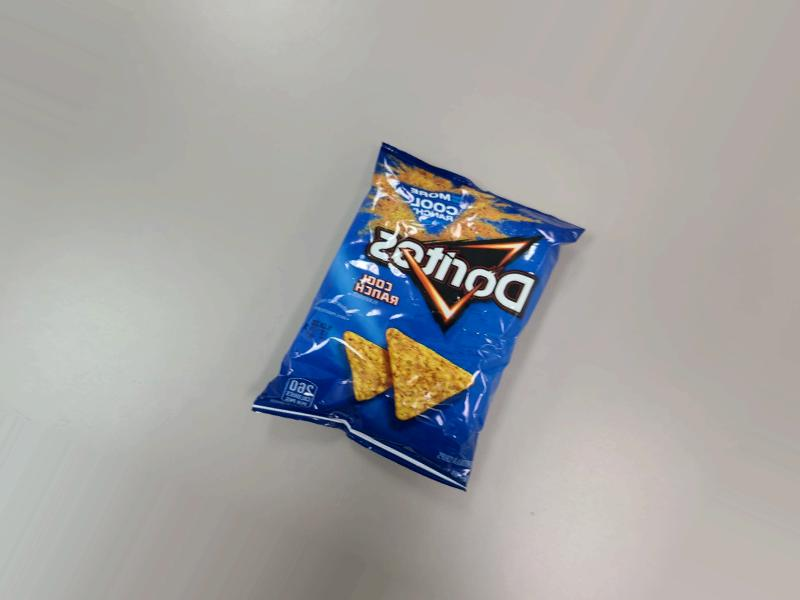doritos: (213, 137, 585, 487)
